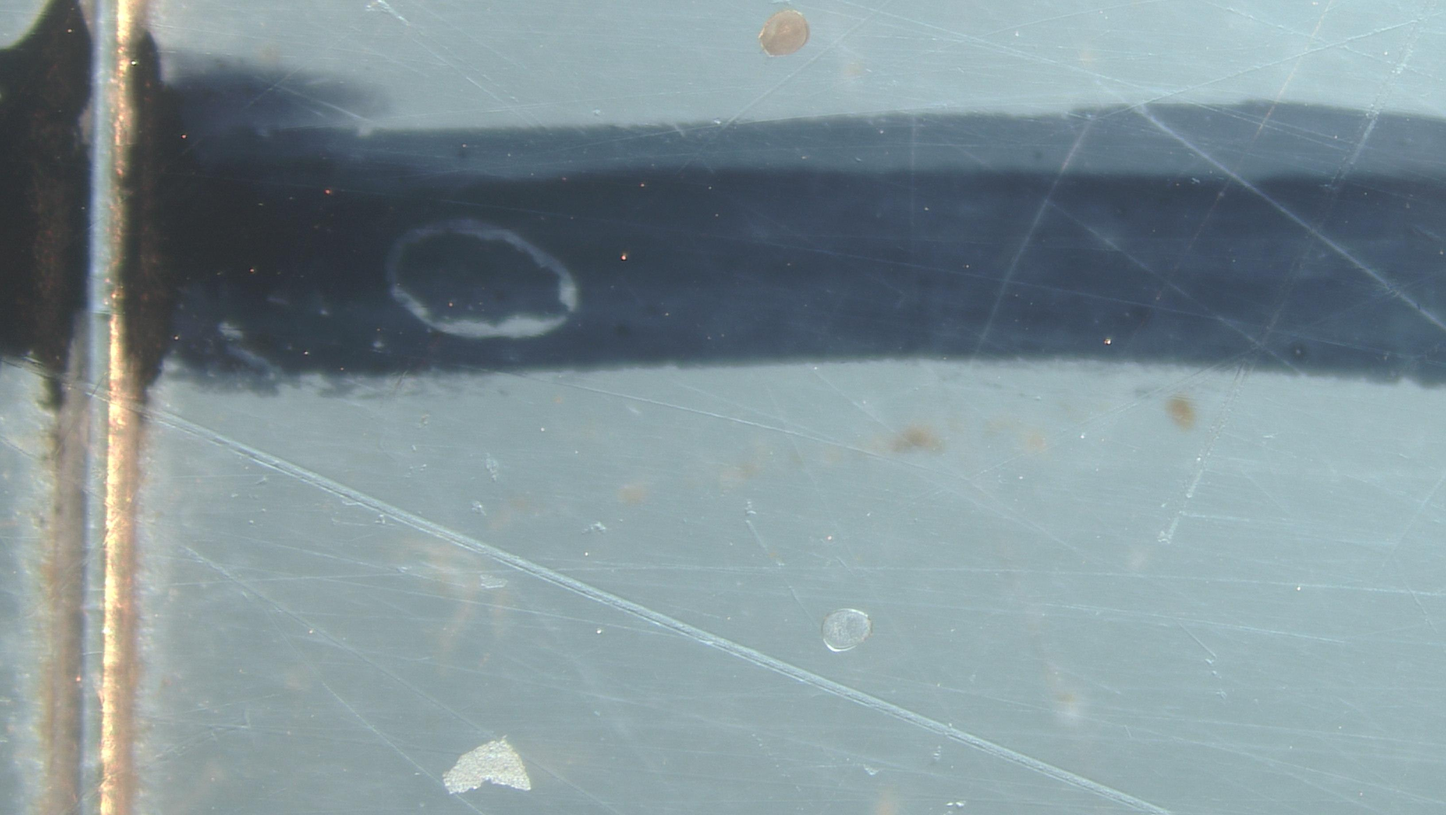dead: (822, 609, 872, 652)
live: (758, 9, 810, 57)
